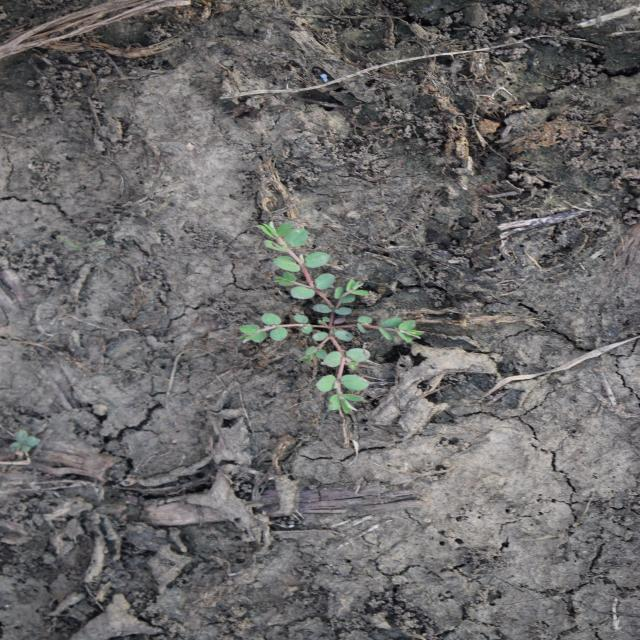SpottedSpurge: (234, 220, 428, 418)
